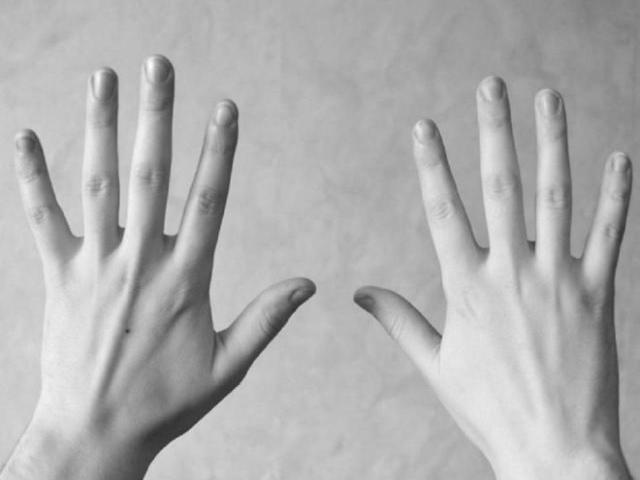not-gloved: (11, 53, 318, 451), (339, 75, 640, 449)
